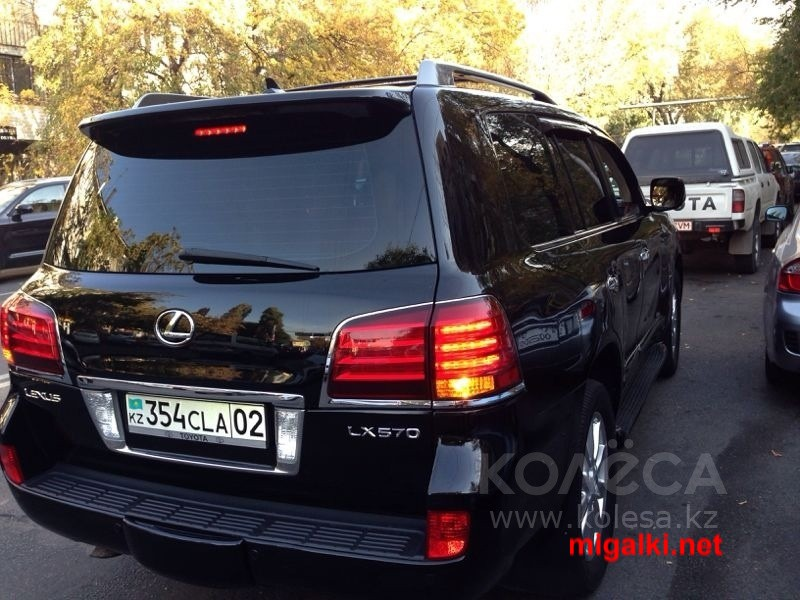license_plate: (124, 390, 266, 450)
